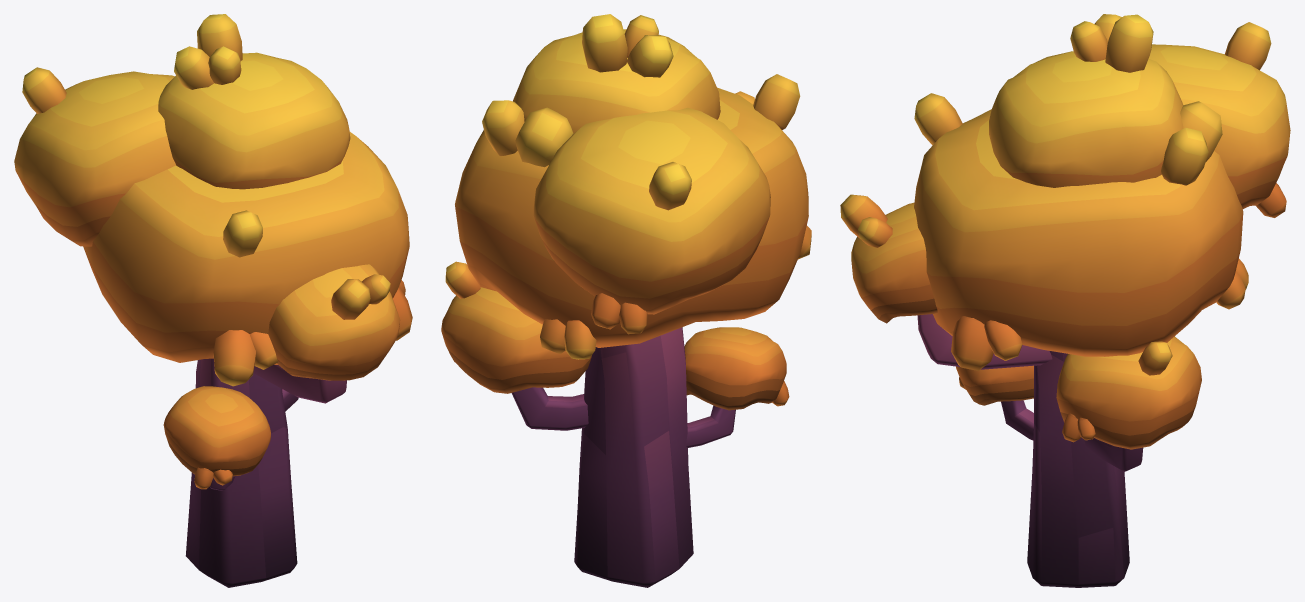
The model's file is grassland_tree_col2_4.fbx.
3 renders of one model, left to right at view 1: azimuth 30°, elevation 25°; view 2: azimuth 150°, elevation 25°; view 3: azimuth 270°, elevation 25°, orthographic. The views are drawn at different scales.
Visible parts, largest first — view 1: grassland_tree_col2_4; view 2: grassland_tree_col2_4; view 3: grassland_tree_col2_4.
Part boxes in pixels (x1,y1,x2,y2): grassland_tree_col2_4: (14, 14, 412, 587); grassland_tree_col2_4: (441, 14, 811, 587); grassland_tree_col2_4: (840, 14, 1290, 587).
Size of the model in its own units: 531 by 914 by 672.
1 material, 1 textured.
